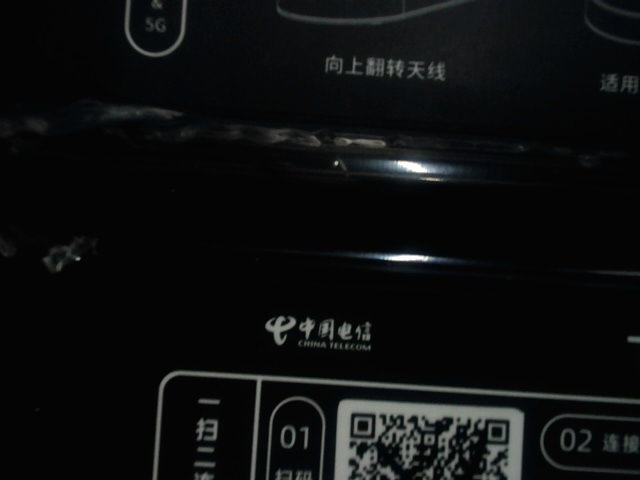AB_ChinaTelecom: (256, 301, 386, 355)
